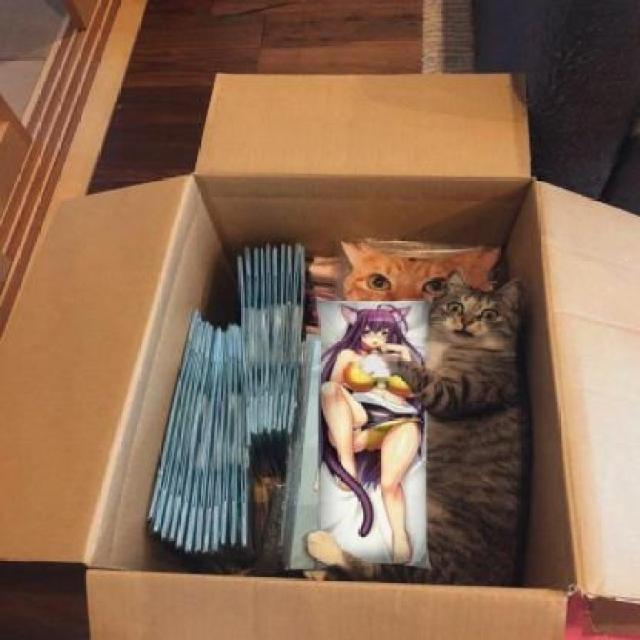cat: (368, 272, 526, 580)
